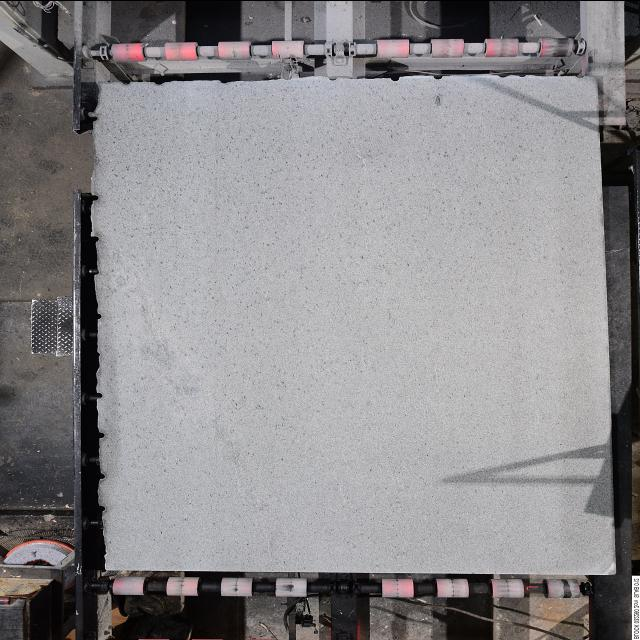chapa: (92, 75, 614, 572)
veio: (88, 234, 102, 244), (88, 192, 101, 202), (95, 430, 106, 440), (92, 390, 105, 398), (90, 112, 100, 122), (431, 74, 445, 80), (389, 75, 402, 81)
